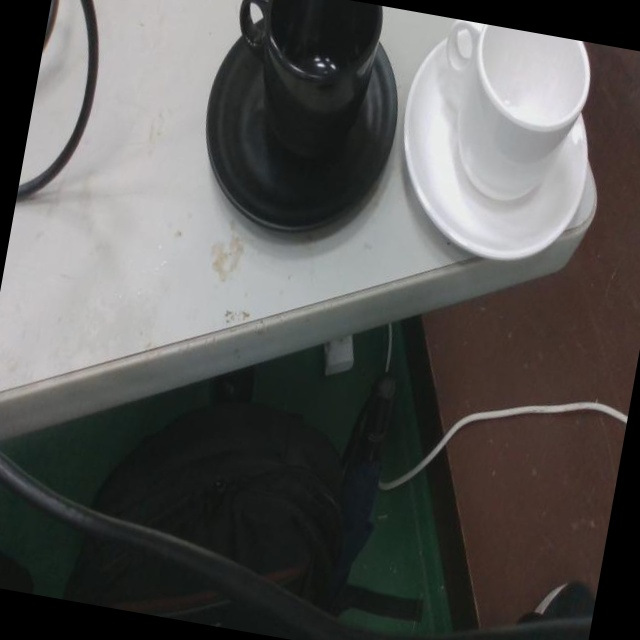black: (204, 0, 399, 243)
white: (399, 28, 593, 266)
